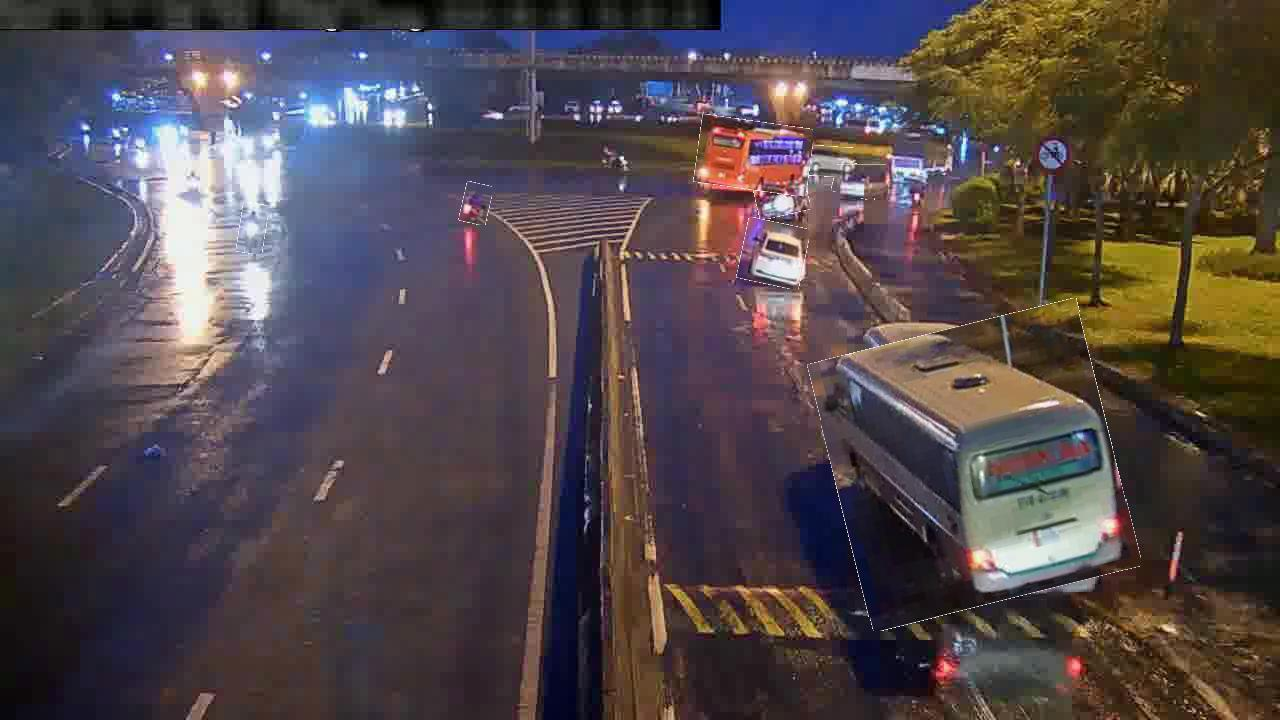14: (822, 313, 1128, 618), (695, 118, 812, 194), (837, 164, 887, 199)
container: (739, 220, 808, 288), (754, 174, 810, 218), (832, 163, 880, 199), (808, 146, 854, 178)
motorbike: (238, 203, 268, 255), (460, 183, 491, 225)
